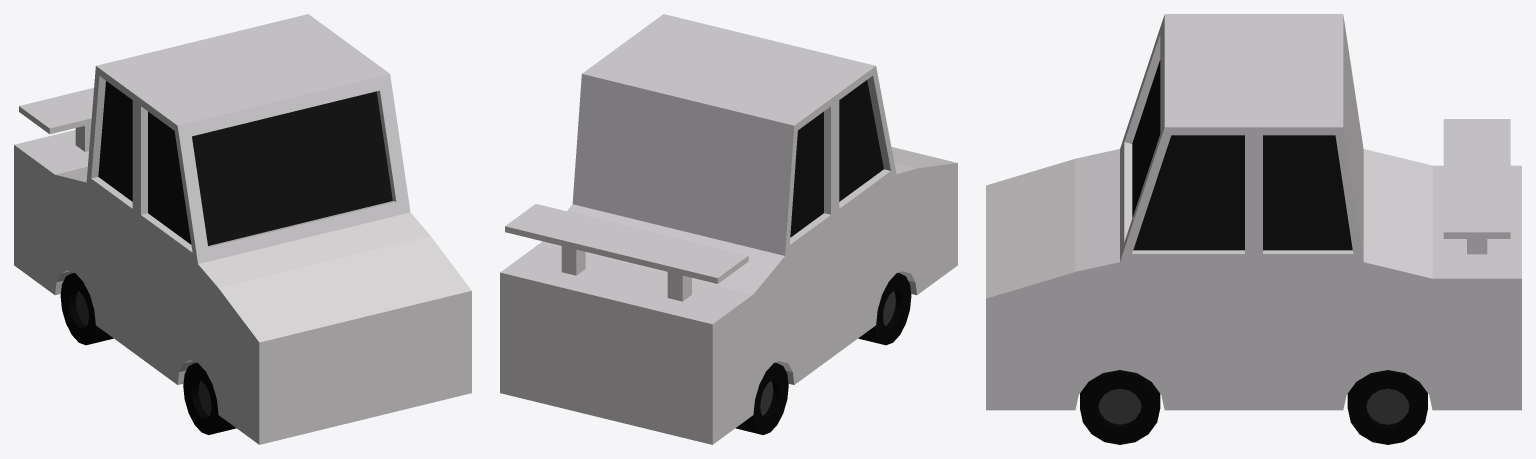
Rendered from mobil 3.fbx.
3 views of the same model, side by side, from view 1: azimuth 30°, elevation 25°; view 2: azimuth 150°, elevation 25°; view 3: azimuth 270°, elevation 25° (orthographic). The views are drawn at different scales.
Visible parts, largest first — view 1: fix.007; view 2: fix.007; view 3: fix.007.
Part boxes in pixels (x1=…): fix.007: x1=14, y1=14, x2=471, y2=444; fix.007: x1=500, y1=14, x2=957, y2=444; fix.007: x1=986, y1=14, x2=1521, y2=444.
Size of the model in its own units: 300 by 600 by 395.
Materials: 2 (1 with a texture image).
